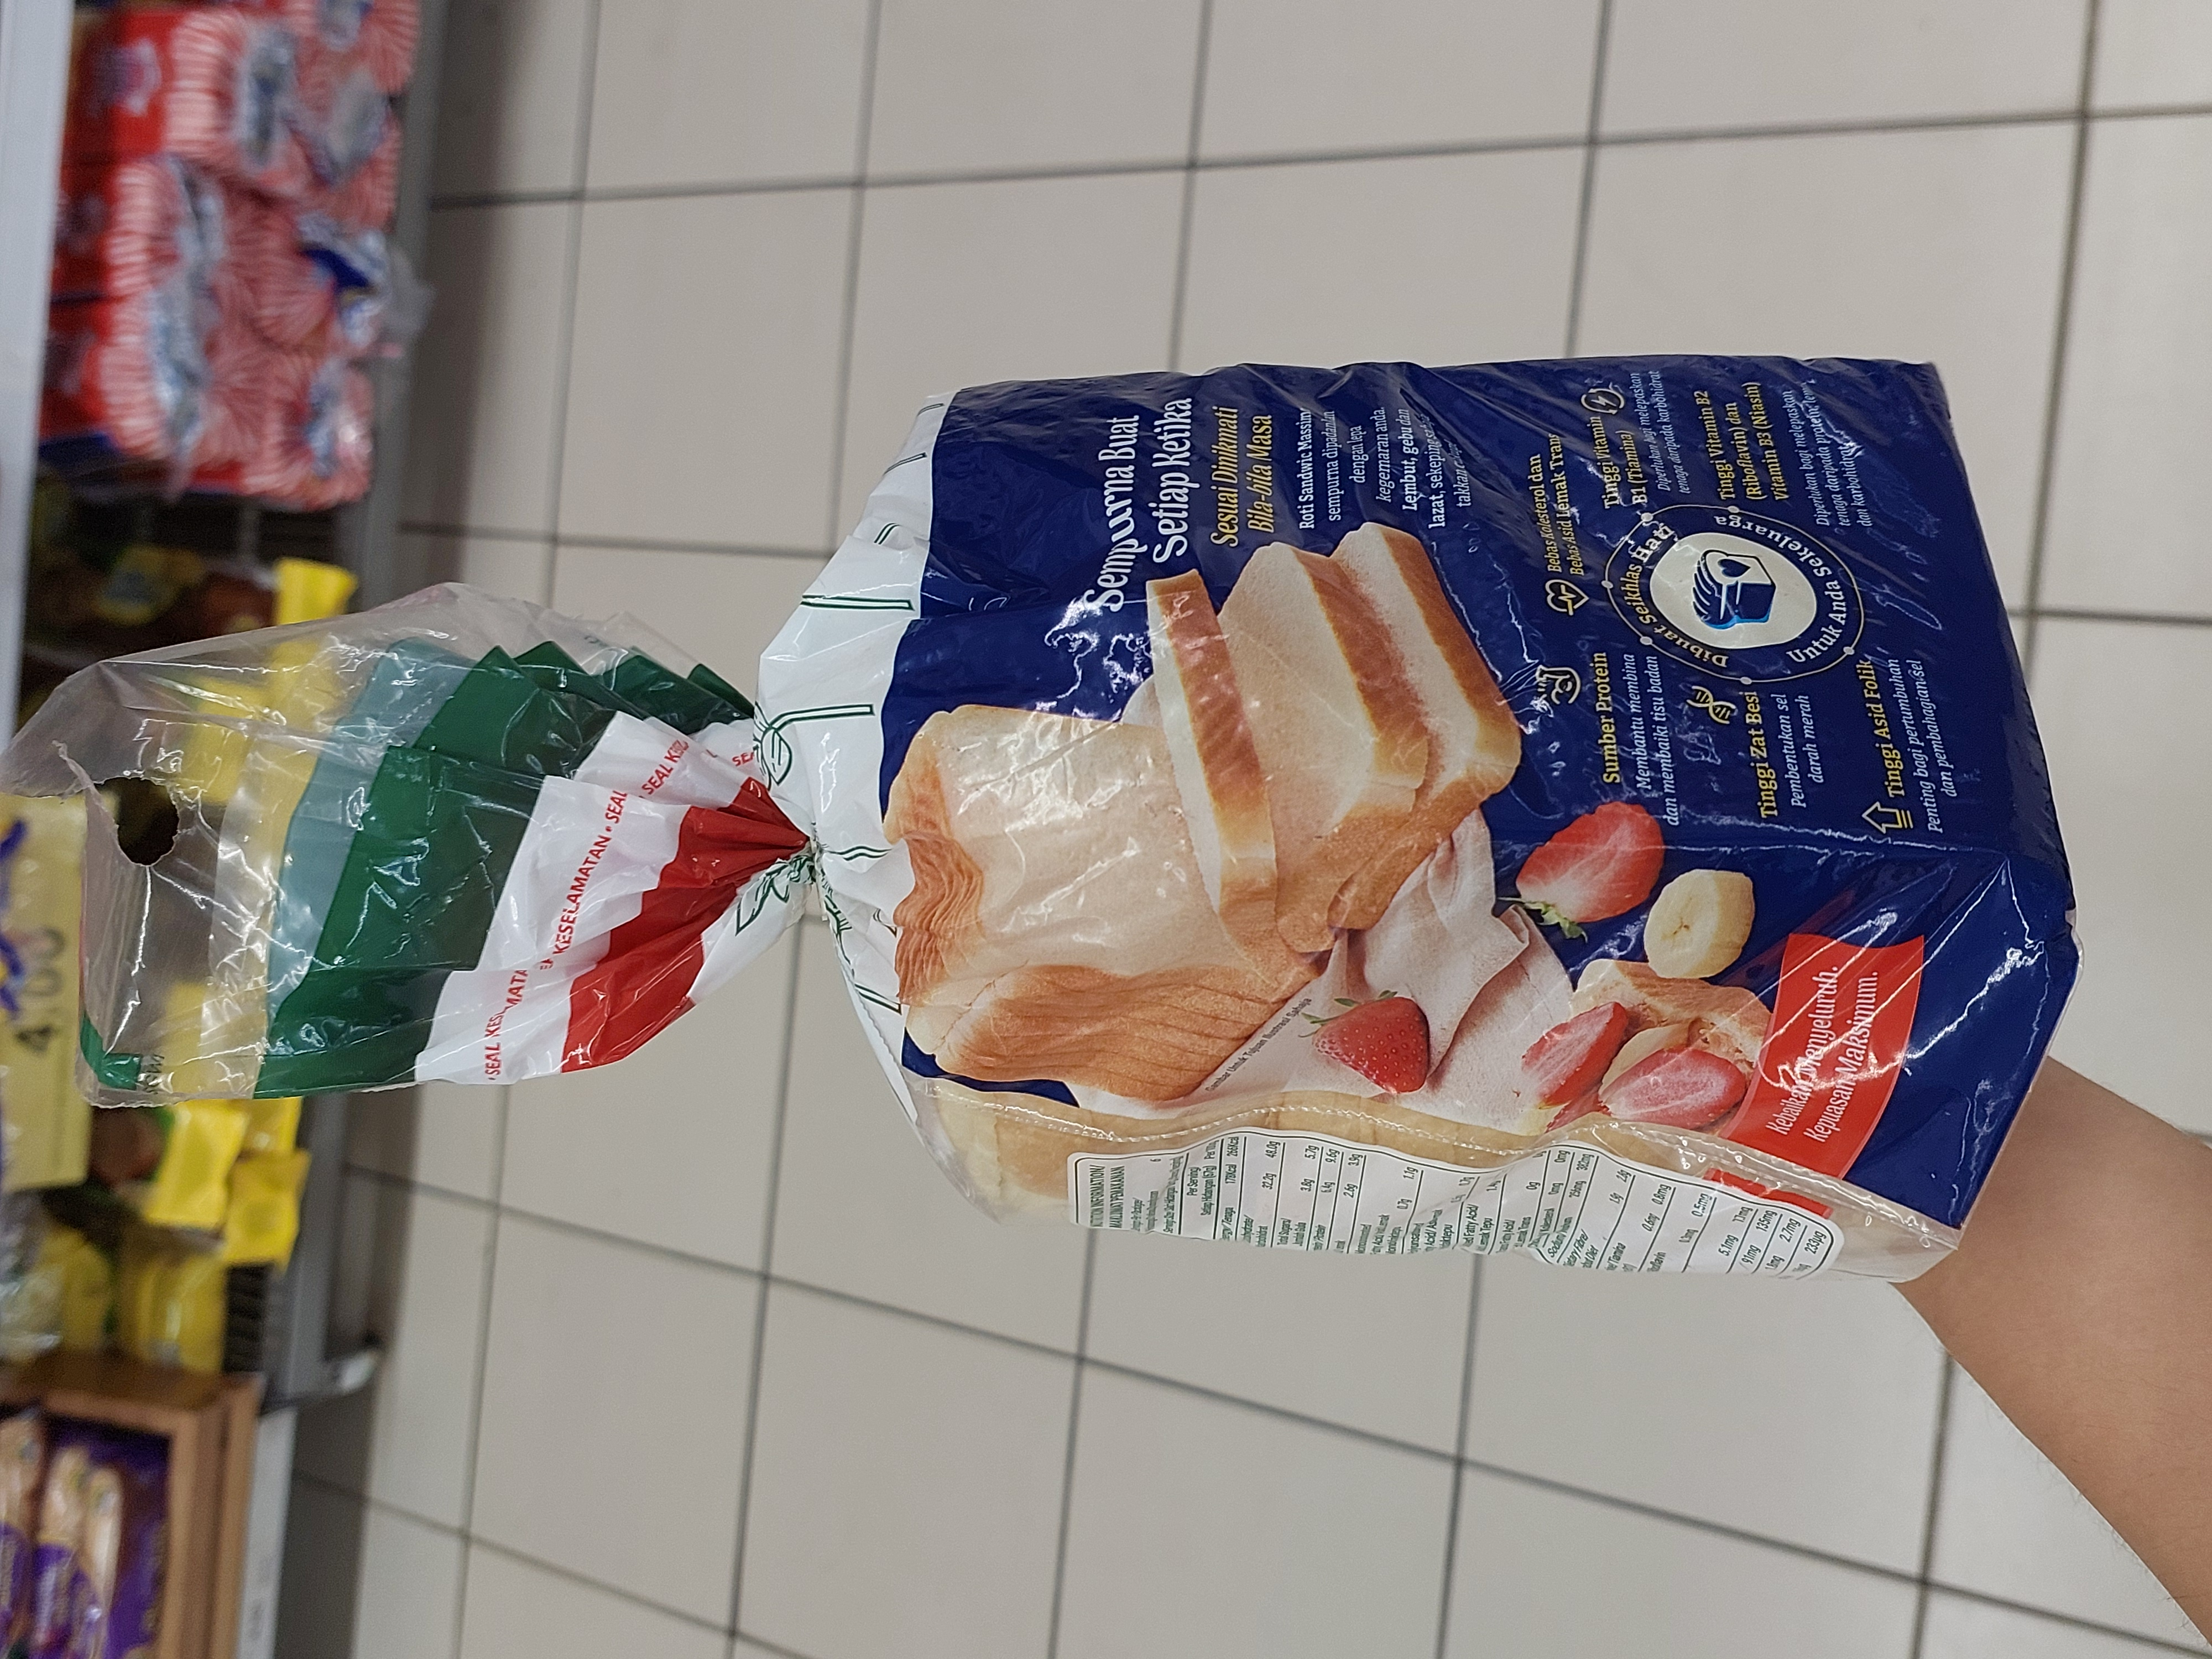bread: (275, 349, 2090, 1284)
